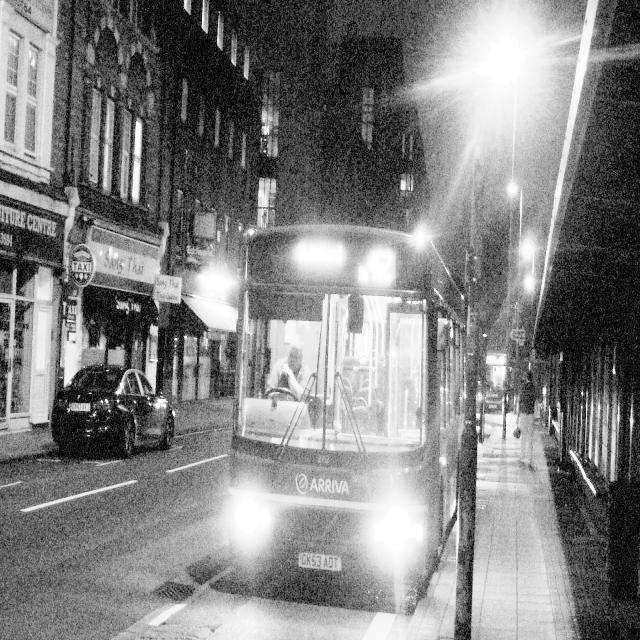Bus: (220, 200, 477, 602)
Car: (57, 356, 179, 489)
